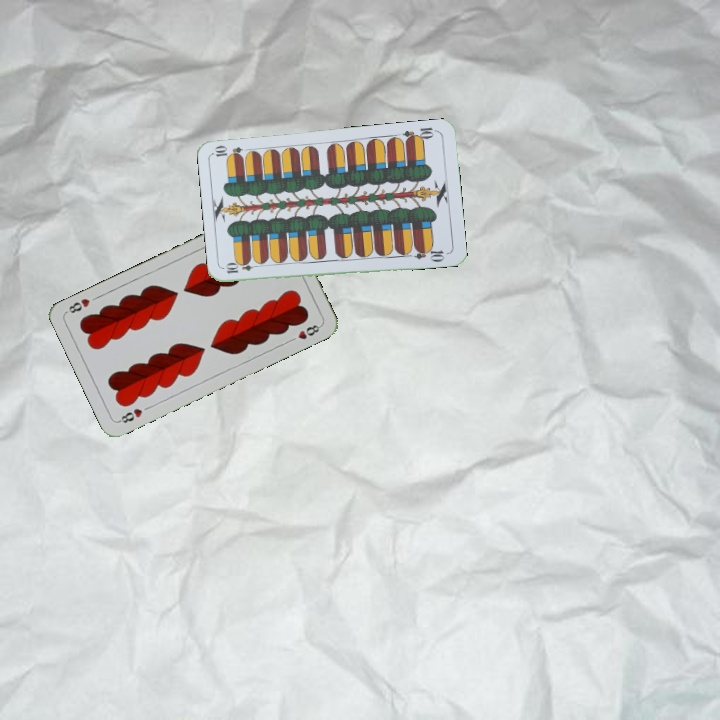E10: (399, 123, 440, 145), (222, 259, 262, 276)
H8: (115, 404, 145, 426)
